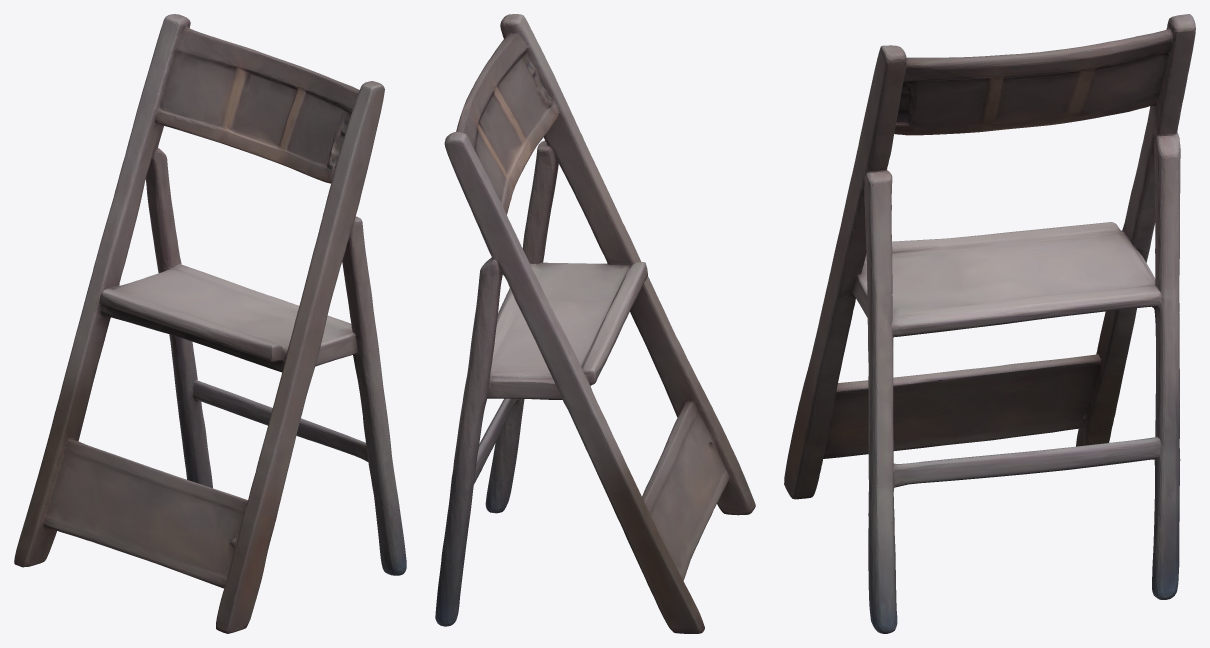
The model's file is wooden_folding_chair_000.glb.
The picture shows the model from 3 angles, left to right: view 1: azimuth 30°, elevation 25°; view 2: azimuth 150°, elevation 25°; view 3: azimuth 270°, elevation 25°; orthographic projection. The views are drawn at different scales.
Parts seen in each view (by area): view 1: wooden_folding_chair_000.obj; view 2: wooden_folding_chair_000.obj; view 3: wooden_folding_chair_000.obj.
Boxes of the visible parts, x1,y1,x2,y2 form: wooden_folding_chair_000.obj: (14,14,406,633); wooden_folding_chair_000.obj: (435,14,755,633); wooden_folding_chair_000.obj: (784,14,1195,633).
Bounding box in the file's own units: 0.2406 × 0.3813 × 0.246.
1 material, 1 textured.
